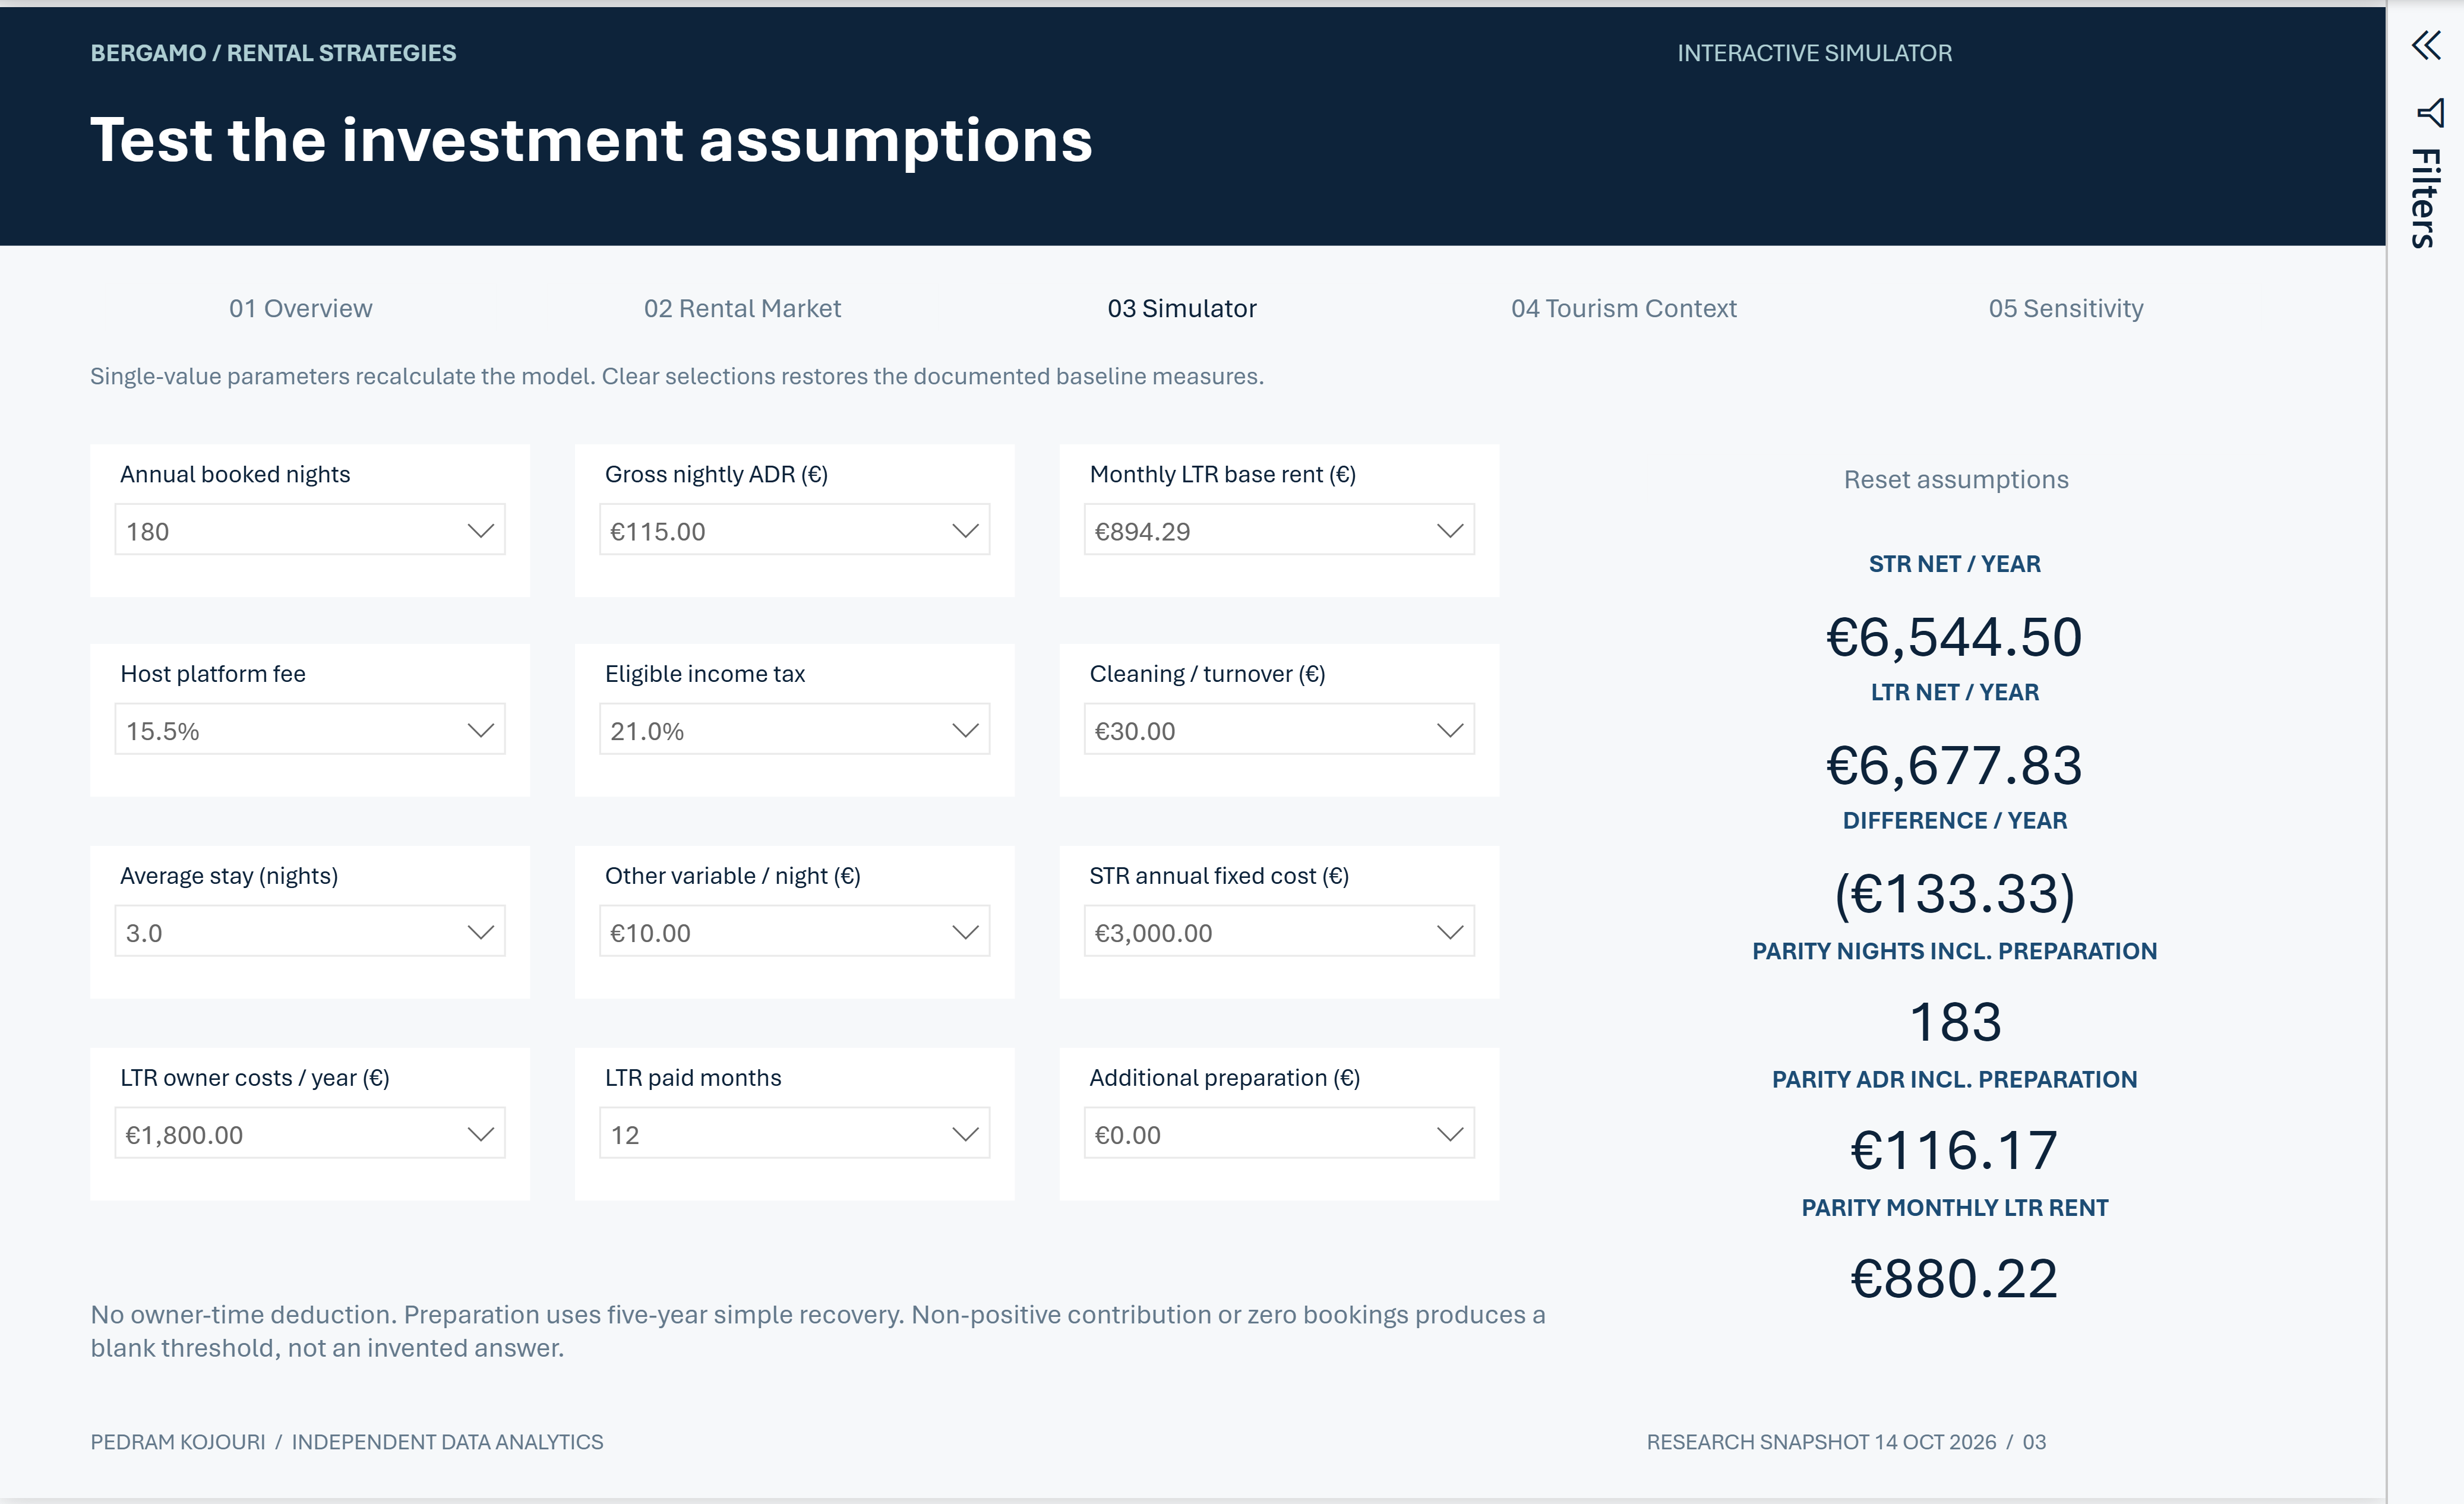

The dashboard page shown, as its layout file describes it:
{"tool":"powerbi","page":{"name":"Simulator","canvas":[1280,800],"ordinal":2},"visuals":[{"type":"textbox","box":[0,0,1280,128],"z":60},{"type":"textbox","box":[48,16,690,24],"z":61},{"type":"textbox","box":[900,16,332,24],"z":62},{"type":"textbox","box":[48,49,1150,60],"z":63},{"type":"actionButton","box":[48,140,226,42],"z":64},{"type":"actionButton","box":[285,140,226,42],"z":65},{"type":"actionButton","box":[522,140,226,42],"z":66},{"type":"actionButton","box":[759,140,226,42],"z":67},{"type":"actionButton","box":[996,140,226,42],"z":68},{"type":"textbox","box":[48,190,1184,36],"z":69},{"type":"textbox","box":[48,762,650,24],"z":70},{"type":"textbox","box":[884,762,350,24],"z":71},{"type":"slicer","fields":{"Values":["PBookedNights.Value"]},"box":[48,234,236,82],"z":72},{"type":"slicer","fields":{"Values":["PADR.Value"]},"box":[308,234,236,82],"z":73},{"type":"slicer","fields":{"Values":["PLTRRent.Value"]},"box":[568,234,236,82],"z":74},{"type":"slicer","fields":{"Values":["PHostFee.Value"]},"box":[48,342,236,82],"z":75},{"type":"slicer","fields":{"Values":["PTax.Value"]},"box":[308,342,236,82],"z":76},{"type":"slicer","fields":{"Values":["PCleaning.Value"]},"box":[568,342,236,82],"z":77},{"type":"slicer","fields":{"Values":["PStay.Value"]},"box":[48,450,236,82],"z":78},{"type":"slicer","fields":{"Values":["PVariableCost.Value"]},"box":[308,450,236,82],"z":79},{"type":"slicer","fields":{"Values":["PSTRFixed.Value"]},"box":[568,450,236,82],"z":80},{"type":"slicer","fields":{"Values":["PLTRFixed.Value"]},"box":[48,558,236,82],"z":81},{"type":"slicer","fields":{"Values":["PPaidMonths.Value"]},"box":[308,558,236,82],"z":82},{"type":"slicer","fields":{"Values":["PPreparation.Value"]},"box":[568,558,236,82],"z":83},{"type":"actionButton","box":[876,232,348,42],"z":84},{"type":"textbox","box":[872,291,354,24],"z":85},{"type":"card","fields":{"Values":["Metrics.STR Net Display"]},"box":[872,316,354,40],"z":86},{"type":"textbox","box":[872,360,354,24],"z":87},{"type":"card","fields":{"Values":["Metrics.LTR Net Display"]},"box":[872,385,354,40],"z":88},{"type":"textbox","box":[872,429,354,24],"z":89},{"type":"card","fields":{"Values":["Metrics.Annual Difference Display"]},"box":[872,454,354,40],"z":90},{"type":"textbox","box":[872,498,354,24],"z":91},{"type":"card","fields":{"Values":["Metrics.Break-even Nights"]},"box":[872,523,354,40],"z":92},{"type":"textbox","box":[872,567,354,24],"z":93},{"type":"card","fields":{"Values":["Metrics.Break-even ADR Display"]},"box":[872,592,354,40],"z":94},{"type":"textbox","box":[872,636,354,24],"z":95},{"type":"card","fields":{"Values":["Metrics.Break-even LTR Rent Display"]},"box":[872,661,354,40],"z":96},{"type":"textbox","box":[48,692,785,52],"z":97}]}

Visuals, with their boxes in screenshot pixels (x1, y1, x2, y2), scaled from the page's 1280x800 canvas onto the 2464x1504 screenshot:
textbox: 0 0 2463 241
textbox: 93 30 1421 75
textbox: 1733 30 2371 75
textbox: 93 92 2306 205
actionButton: 93 263 527 342
actionButton: 549 263 984 342
actionButton: 1005 263 1440 342
actionButton: 1461 263 1896 342
actionButton: 1918 263 2352 342
textbox: 93 357 2371 425
textbox: 93 1433 1344 1478
textbox: 1702 1433 2375 1478
slicer - PBookedNights.Value: 93 440 546 594
slicer - PADR.Value: 593 440 1047 594
slicer - PLTRRent.Value: 1094 440 1547 594
slicer - PHostFee.Value: 93 643 546 797
slicer - PTax.Value: 593 643 1047 797
slicer - PCleaning.Value: 1094 643 1547 797
slicer - PStay.Value: 93 846 546 1000
slicer - PVariableCost.Value: 593 846 1047 1000
slicer - PSTRFixed.Value: 1094 846 1547 1000
slicer - PLTRFixed.Value: 93 1049 546 1203
slicer - PPaidMonths.Value: 593 1049 1047 1203
slicer - PPreparation.Value: 1094 1049 1547 1203
actionButton: 1686 436 2356 515
textbox: 1679 547 2360 592
card - Metrics.STR Net Display: 1679 594 2360 669
textbox: 1679 677 2360 722
card - Metrics.LTR Net Display: 1679 724 2360 799
textbox: 1679 807 2360 852
card - Metrics.Annual Difference Display: 1679 854 2360 929
textbox: 1679 936 2360 981
card - Metrics.Break-even Nights: 1679 983 2360 1059
textbox: 1679 1066 2360 1111
card - Metrics.Break-even ADR Display: 1679 1113 2360 1188
textbox: 1679 1196 2360 1241
card - Metrics.Break-even LTR Rent Display: 1679 1243 2360 1318
textbox: 93 1301 1603 1399
